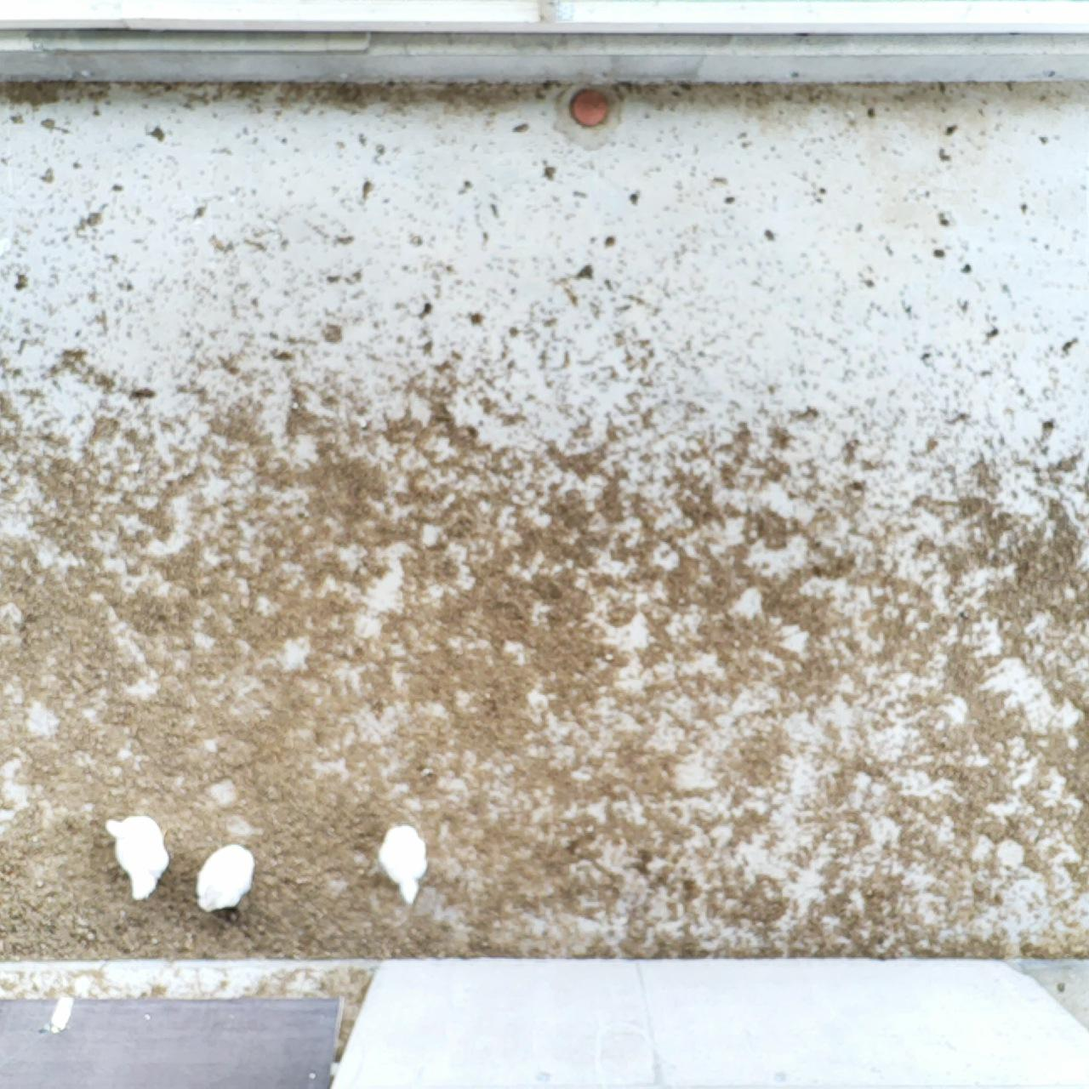chicken: (103, 811, 174, 906), (374, 821, 432, 912), (190, 842, 261, 916)
